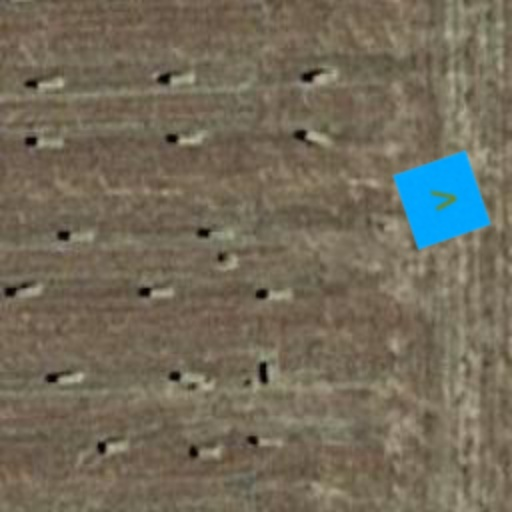rectangle: (392, 150, 492, 250)
